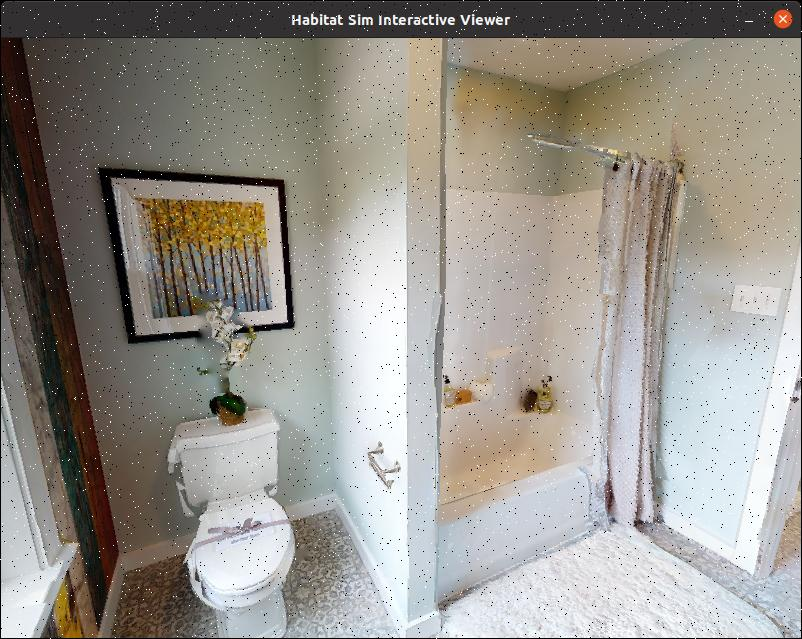shower: (389, 145, 699, 593)
toilet: (153, 405, 329, 639)
